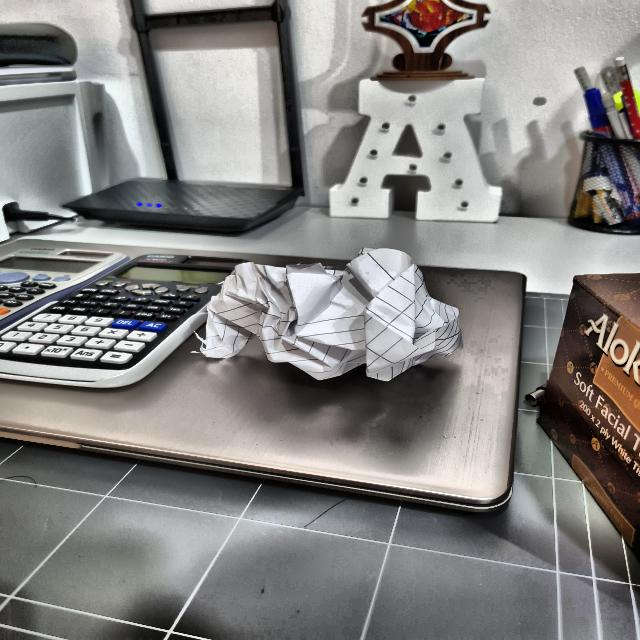Paper: (203, 248, 456, 389)
